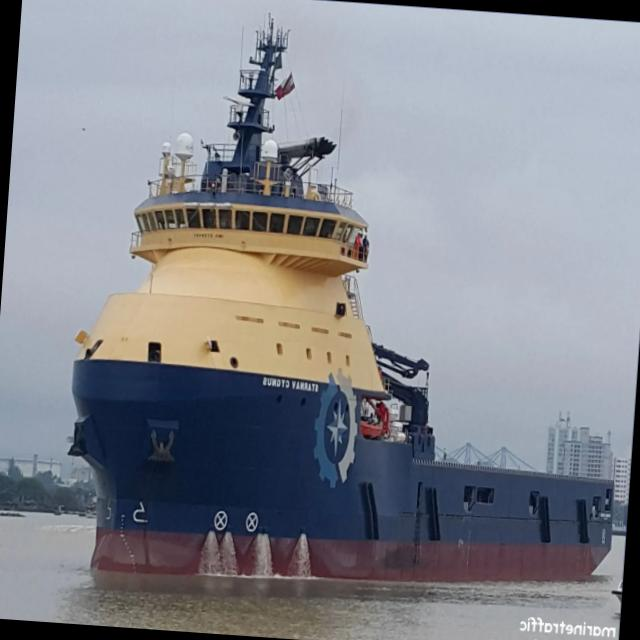Offshore: (68, 17, 613, 585)
